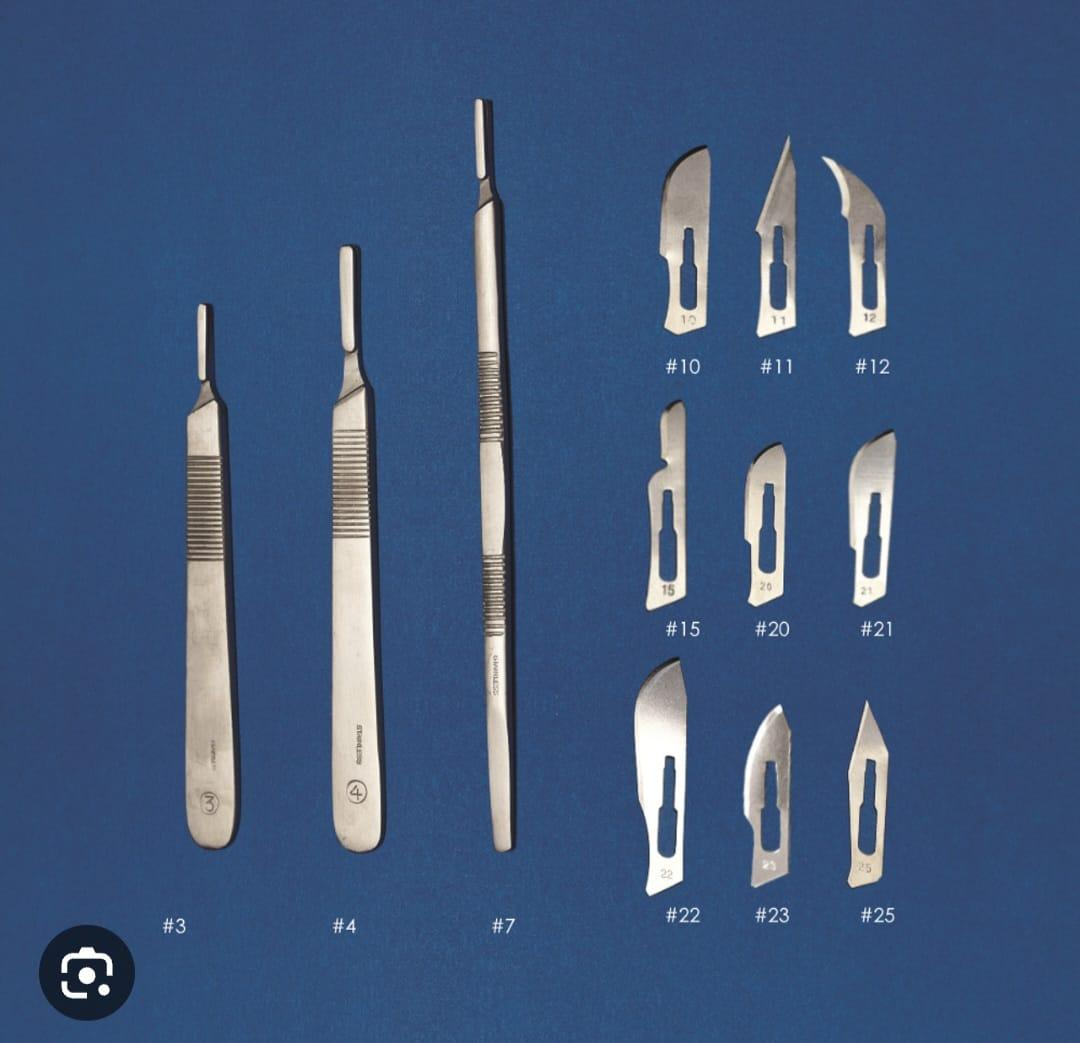Knife Blade: (593, 123, 720, 362), (605, 653, 718, 903), (732, 425, 820, 633), (830, 700, 907, 908), (732, 707, 815, 888), (847, 425, 908, 615)
Knife Handle: (135, 260, 262, 863), (312, 223, 407, 870)
